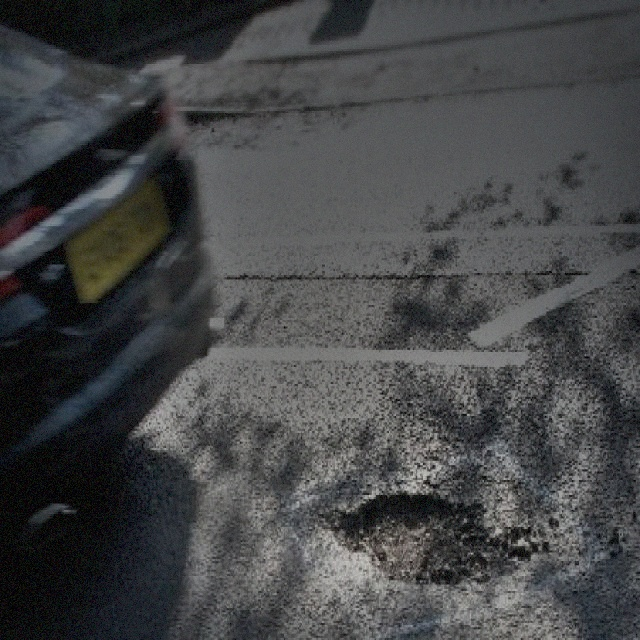pothole: (318, 488, 525, 589), (180, 107, 240, 132)
